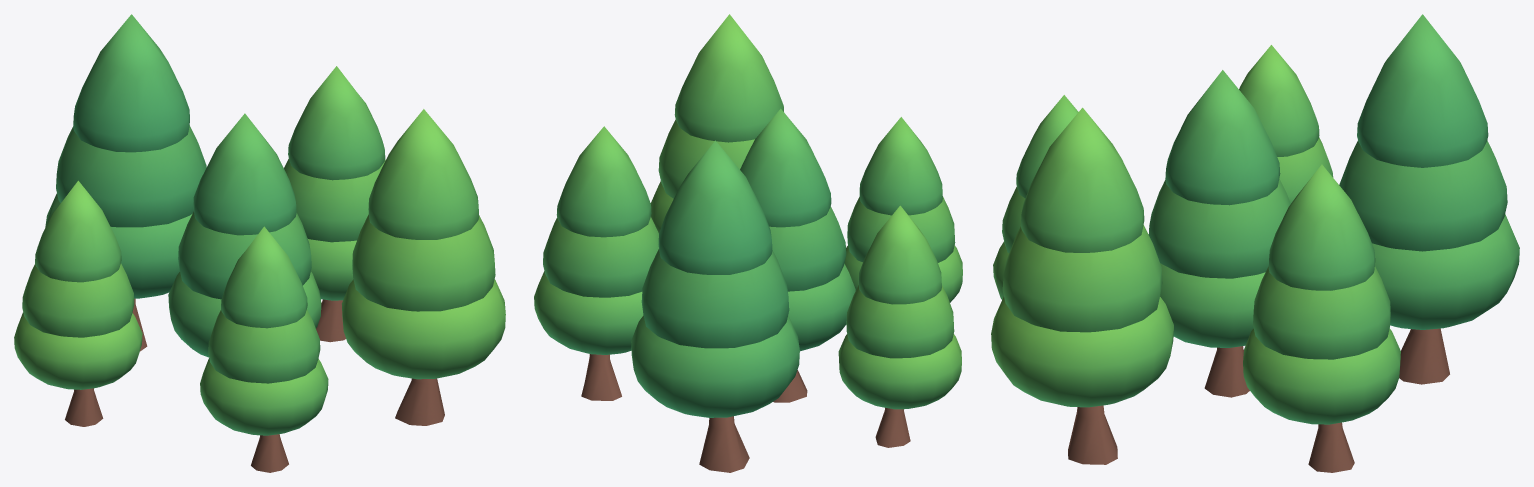
The model's file is Forest_01.fbx.
The picture shows the model from 3 angles, left to right: view 1: azimuth 30°, elevation 25°; view 2: azimuth 150°, elevation 25°; view 3: azimuth 270°, elevation 25°; orthographic projection. The views are drawn at different scales.
Visible parts, largest first — view 1: Forest_01; view 2: Forest_01; view 3: Forest_01.
Boxes of the visible parts, x1,y1,x2,y2 form: Forest_01: (14, 14, 505, 472); Forest_01: (534, 14, 962, 472); Forest_01: (991, 14, 1519, 472).
Bounding box in the file's own units: 171 × 134 × 177.
